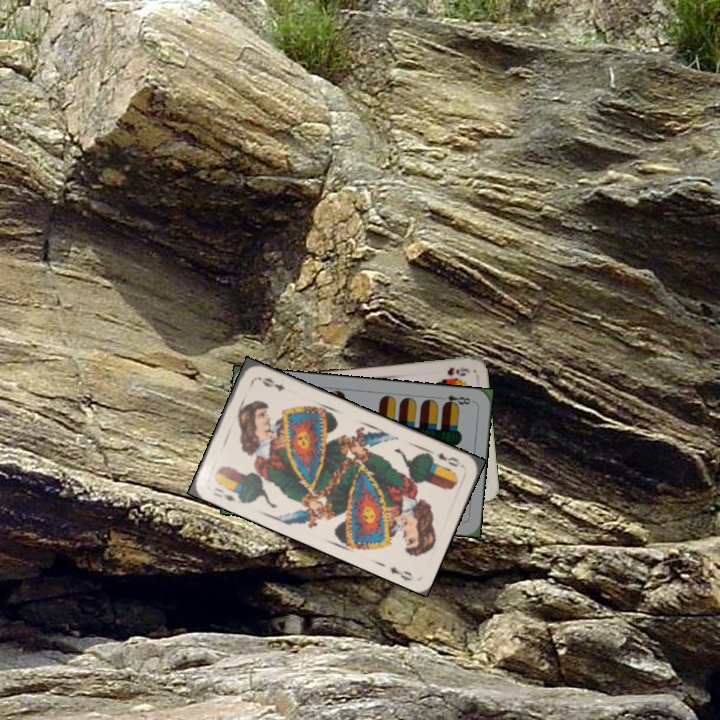E8: (435, 391, 476, 409)
EO: (426, 449, 466, 470), (209, 483, 238, 504)
SO: (443, 363, 472, 379)
